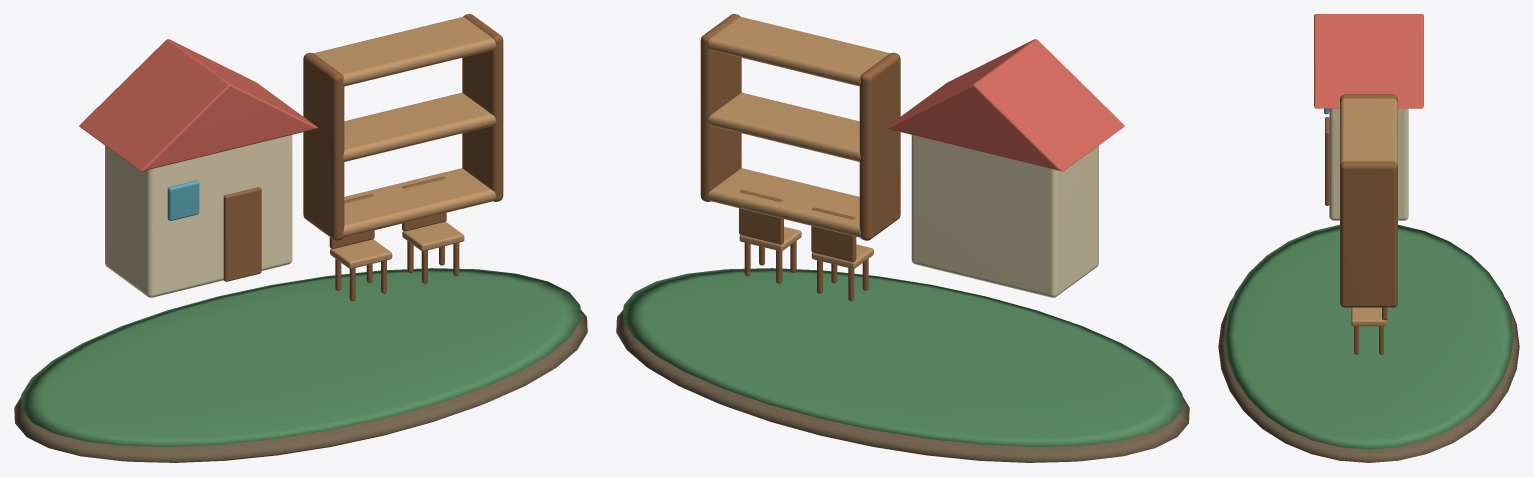
The model's file is complete-second-peaceful-row.glb.
3 views of the same model, side by side, from view 1: azimuth 30°, elevation 25°; view 2: azimuth 150°, elevation 25°; view 3: azimuth 270°, elevation 25° (orthographic). The views are drawn at different scales.
Parts seen in each view (by area): view 1: complete-second-peaceful-row_surface_01, complete-second-peaceful-row_surface_06, complete-second-peaceful-row_surface_02, complete-second-peaceful-row_surface_04, complete-second-peaceful-row_surface_03, complete-second-peaceful-row_surface_00, complete-second-peaceful-row_surface_05; view 2: complete-second-peaceful-row_surface_01, complete-second-peaceful-row_surface_02, complete-second-peaceful-row_surface_06, complete-second-peaceful-row_surface_03, complete-second-peaceful-row_surface_04, complete-second-peaceful-row_surface_00; view 3: complete-second-peaceful-row_surface_01, complete-second-peaceful-row_surface_03, complete-second-peaceful-row_surface_04, complete-second-peaceful-row_surface_00, complete-second-peaceful-row_surface_06, complete-second-peaceful-row_surface_02.
Boxes of the visible parts, x1=… form: complete-second-peaceful-row_surface_01: x1=21, y1=268, x2=580, y2=446; complete-second-peaceful-row_surface_06: x1=314, y1=17, x2=496, y2=268; complete-second-peaceful-row_surface_02: x1=105, y1=135, x2=292, y2=297; complete-second-peaceful-row_surface_04: x1=223, y1=14, x2=503, y2=301; complete-second-peaceful-row_surface_03: x1=79, y1=39, x2=317, y2=171; complete-second-peaceful-row_surface_00: x1=14, y1=310, x2=587, y2=462; complete-second-peaceful-row_surface_05: x1=167, y1=180, x2=199, y2=220; complete-second-peaceful-row_surface_01: x1=623, y1=268, x2=1182, y2=446; complete-second-peaceful-row_surface_02: x1=911, y1=135, x2=1098, y2=297; complete-second-peaceful-row_surface_06: x1=707, y1=17, x2=889, y2=268; complete-second-peaceful-row_surface_03: x1=886, y1=39, x2=1124, y2=171; complete-second-peaceful-row_surface_04: x1=700, y1=14, x2=900, y2=301; complete-second-peaceful-row_surface_00: x1=616, y1=310, x2=1189, y2=462; complete-second-peaceful-row_surface_01: x1=1224, y1=224, x2=1513, y2=449; complete-second-peaceful-row_surface_03: x1=1314, y1=14, x2=1423, y2=108; complete-second-peaceful-row_surface_04: x1=1325, y1=94, x2=1397, y2=354; complete-second-peaceful-row_surface_00: x1=1218, y1=297, x2=1519, y2=462; complete-second-peaceful-row_surface_06: x1=1340, y1=98, x2=1397, y2=326; complete-second-peaceful-row_surface_02: x1=1329, y1=108, x2=1408, y2=220.
Bounding box in the file's own units: 4.56 × 2.78 × 2.5.
